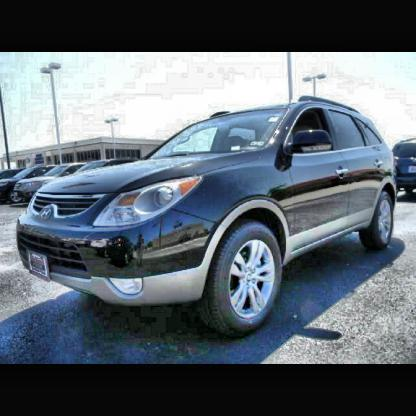Hyundai Veracruz SUV 2012: (17, 99, 398, 327)
